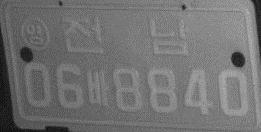0: (217, 68, 249, 117), (23, 59, 52, 108)
4: (182, 68, 212, 115)
6: (54, 61, 84, 110)
8: (145, 66, 178, 113), (111, 66, 141, 112)
바: (86, 68, 110, 108)
영: (20, 16, 50, 50)
전남_D: (61, 15, 189, 55)
